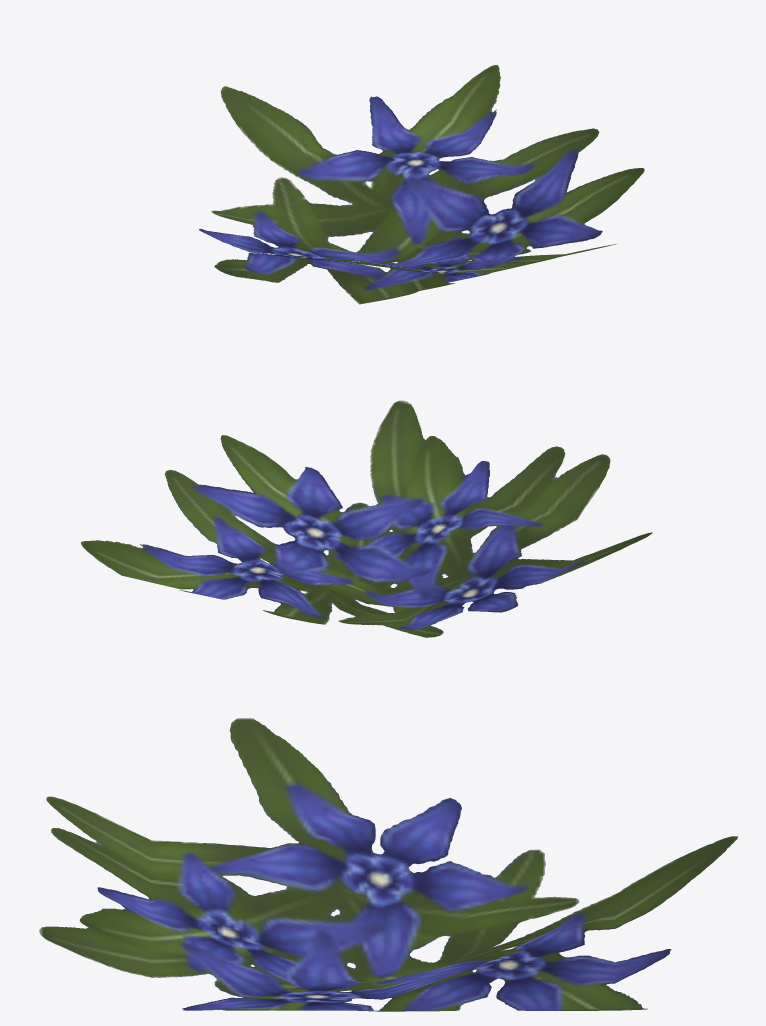
The model's file is Flower3.fbx.
3 renders of one model, top to bottom at view 1: azimuth 30°, elevation 25°; view 2: azimuth 150°, elevation 25°; view 3: azimuth 270°, elevation 25°, orthographic. The views are drawn at different scales.
Visible parts, largest first — view 1: Flower3; view 2: Flower3; view 3: Flower3.
Boxes of the visible parts, <box> form: Flower3: <box>199,65,644,304</box>; Flower3: <box>81,400,652,637</box>; Flower3: <box>39,718,737,1011</box>.
Bounding box in the file's own units: 1 × 0.1851 × 1.
1 material, 1 textured.
